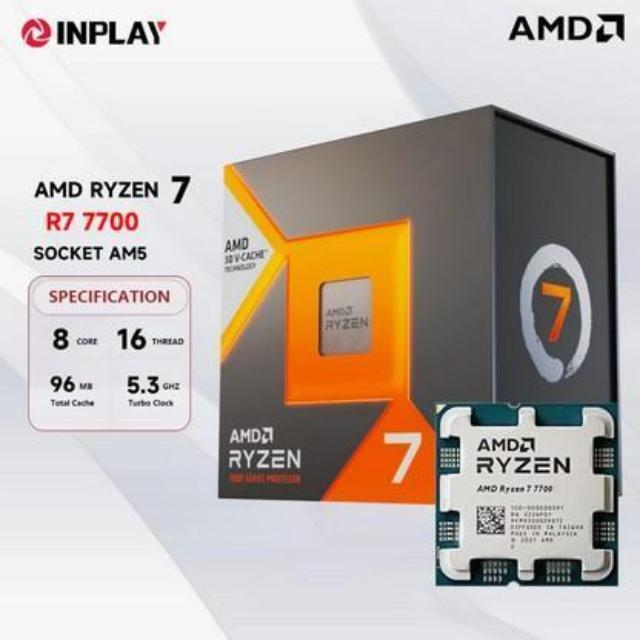CPU: (432, 404, 623, 590)
